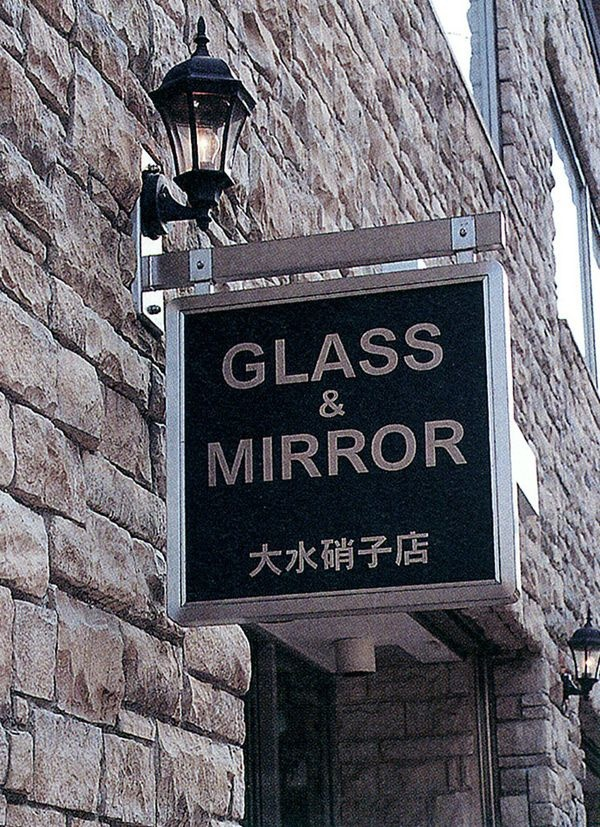text: (214, 320, 229, 395), (230, 320, 245, 395), (246, 320, 261, 395), (262, 320, 277, 395), (278, 320, 293, 395), (294, 320, 309, 395), (310, 320, 325, 395), (326, 320, 341, 395), (342, 320, 357, 395), (358, 320, 373, 395), (374, 320, 389, 395), (390, 320, 405, 395), (406, 320, 421, 395), (422, 320, 437, 395), (438, 320, 453, 395), (200, 418, 215, 490), (216, 418, 231, 490), (232, 418, 247, 490), (248, 418, 263, 490), (264, 418, 279, 490), (280, 418, 295, 490), (296, 418, 311, 490), (312, 418, 327, 490), (328, 418, 343, 490), (344, 418, 359, 490), (360, 418, 375, 490), (376, 418, 391, 490), (392, 418, 407, 490), (408, 418, 423, 490), (424, 418, 439, 490), (440, 418, 455, 490), (456, 418, 471, 490), (243, 531, 258, 580), (259, 531, 274, 580), (275, 531, 290, 580), (291, 531, 306, 580), (307, 531, 322, 580), (323, 531, 338, 580), (339, 531, 354, 580), (355, 531, 370, 580), (371, 531, 386, 580), (387, 531, 402, 580), (403, 531, 418, 580), (419, 531, 434, 580), (316, 389, 331, 421), (332, 389, 347, 421)
